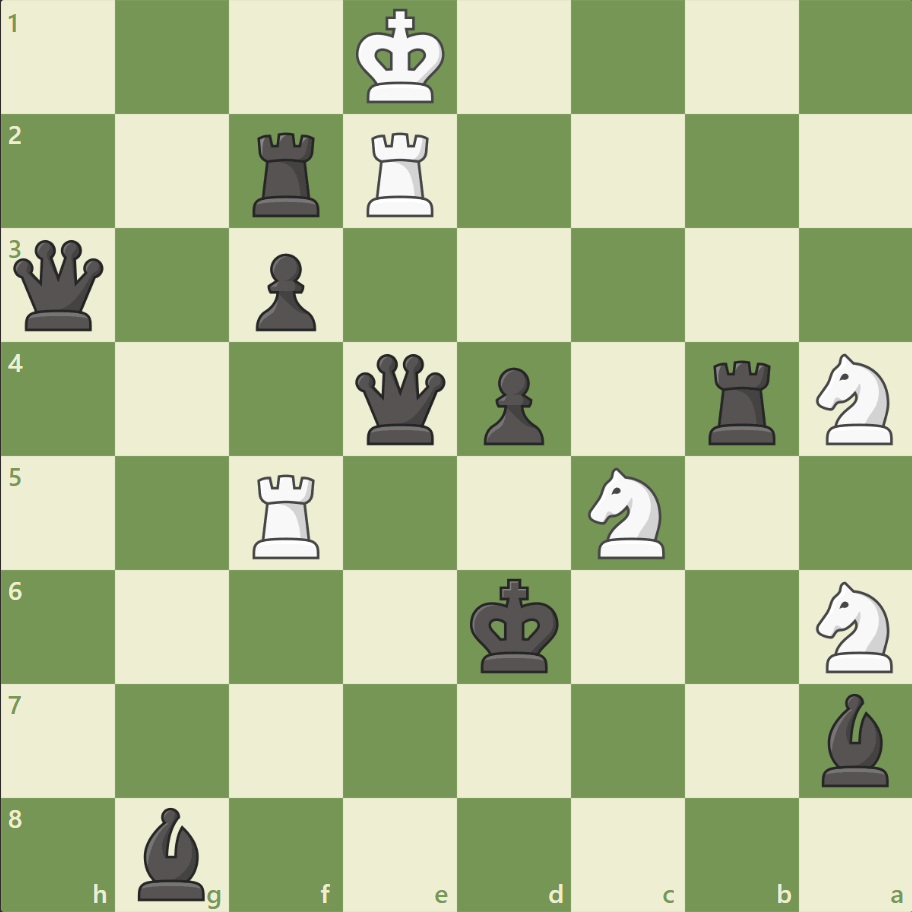K: (351, 4, 451, 112)
N: (579, 461, 676, 564), (806, 575, 903, 677), (806, 348, 903, 450)
R: (246, 466, 329, 563), (360, 125, 442, 222)
b: (131, 801, 215, 904), (812, 687, 896, 790)
k: (465, 571, 565, 679)
p: (474, 359, 549, 450), (247, 246, 322, 337)
q: (351, 349, 450, 449), (10, 236, 109, 335)
r: (700, 352, 783, 449), (246, 125, 329, 222)
